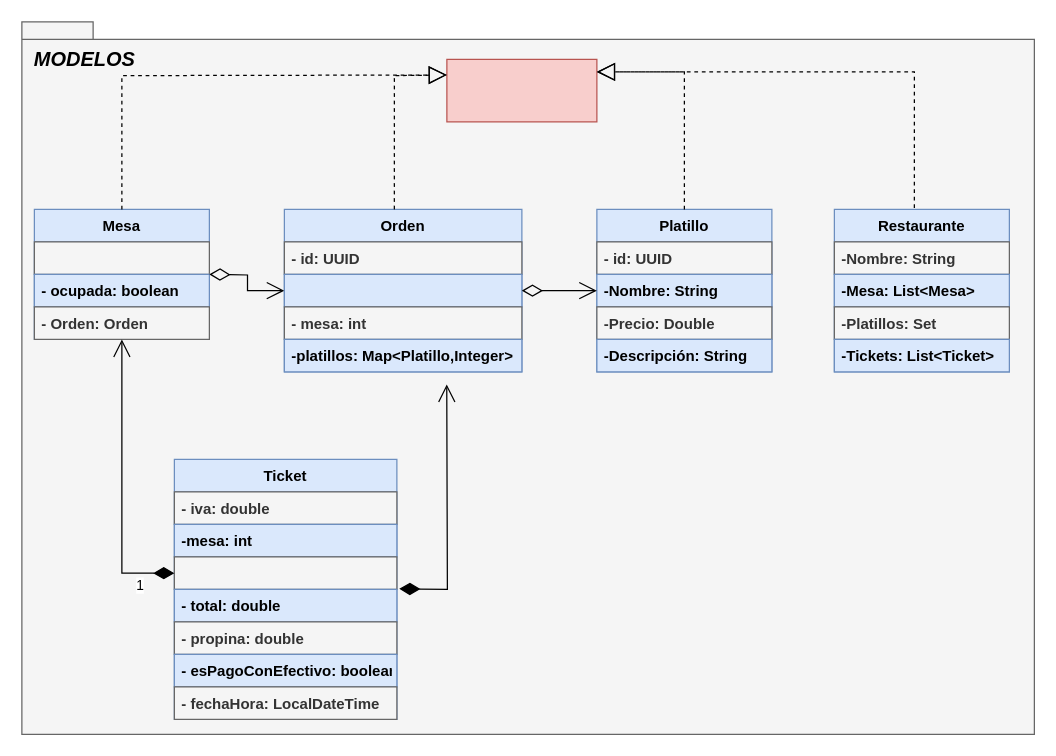
The diagram is 1056 pixels wide and 756 high, and some of its shapes have lost their labels. The centre of each missing label's shape, as x and y in pixels:
"- numMesa: int" belongs at (x=121, y=257).
"-Orden: Orden" belongs at (x=285, y=572).
"-servidor: Usuario" belongs at (x=402, y=290).
"<<Interface>> Serializable" belongs at (x=521, y=90).
